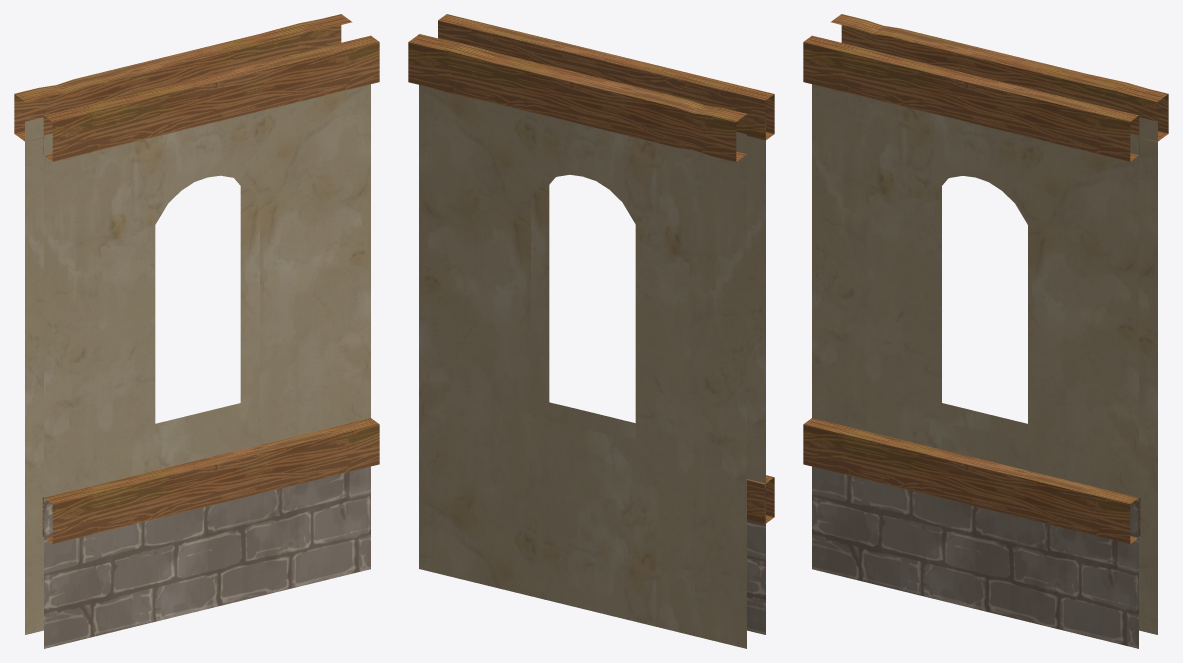
File: Wall_Plaster_Window_Thin_Round.gltf
3 renders of one model, left to right at view 1: azimuth 30°, elevation 25°; view 2: azimuth 150°, elevation 25°; view 3: azimuth 330°, elevation 25°, orthographic.
Parts seen in each view (by area): view 1: Wall_Plaster_Window_Thin_Round; view 2: Wall_Plaster_Window_Thin_Round; view 3: Wall_Plaster_Window_Thin_Round.
Boxes of the visible parts, <box> form: Wall_Plaster_Window_Thin_Round: <box>14,14,379,648</box>; Wall_Plaster_Window_Thin_Round: <box>408,14,774,648</box>; Wall_Plaster_Window_Thin_Round: <box>803,14,1168,648</box>.
Size of the model in its own units: 2 by 3.12 by 0.4065.
3 materials, 3 textured.
